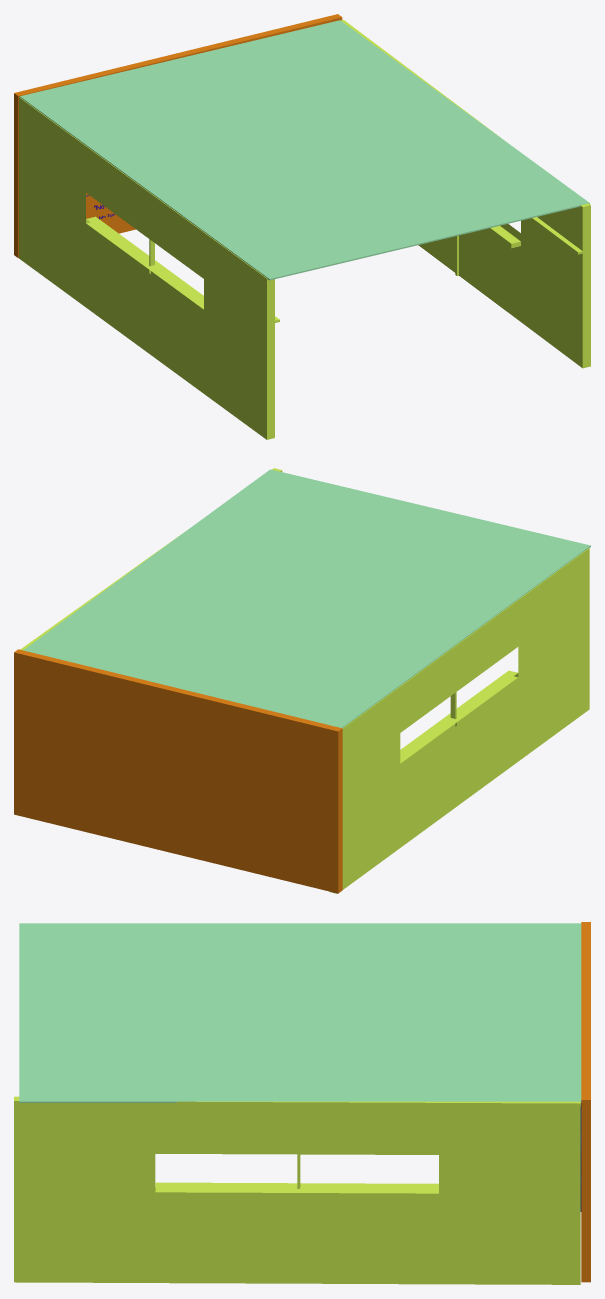
File: updatedRoomNov19.glb
The picture shows the model from 3 angles, top to bottom: view 1: azimuth 30°, elevation 25°; view 2: azimuth 150°, elevation 25°; view 3: azimuth 270°, elevation 25°; orthographic projection. The views are drawn at different scales.
Visible parts, largest first — view 1: ceiling.001, Cube, Cube.001, FrontWall; view 2: ceiling.001, FrontWall, Cube; view 3: ceiling.001, Cube.001, FrontWall.
Boxes of the visible parts, x1,y1,x2,y2 form: ceiling.001: (19, 20, 589, 280); Cube: (19, 97, 279, 439); Cube.001: (341, 20, 590, 368); FrontWall: (14, 14, 342, 257); ceiling.001: (23, 469, 590, 728); FrontWall: (14, 649, 342, 893); Cube: (329, 548, 589, 893); ceiling.001: (19, 923, 581, 1102); Cube.001: (14, 1096, 580, 1284); FrontWall: (581, 922, 590, 1282).
Bounding box in the file's own units: 21.83 × 10.52 × 29.83.
